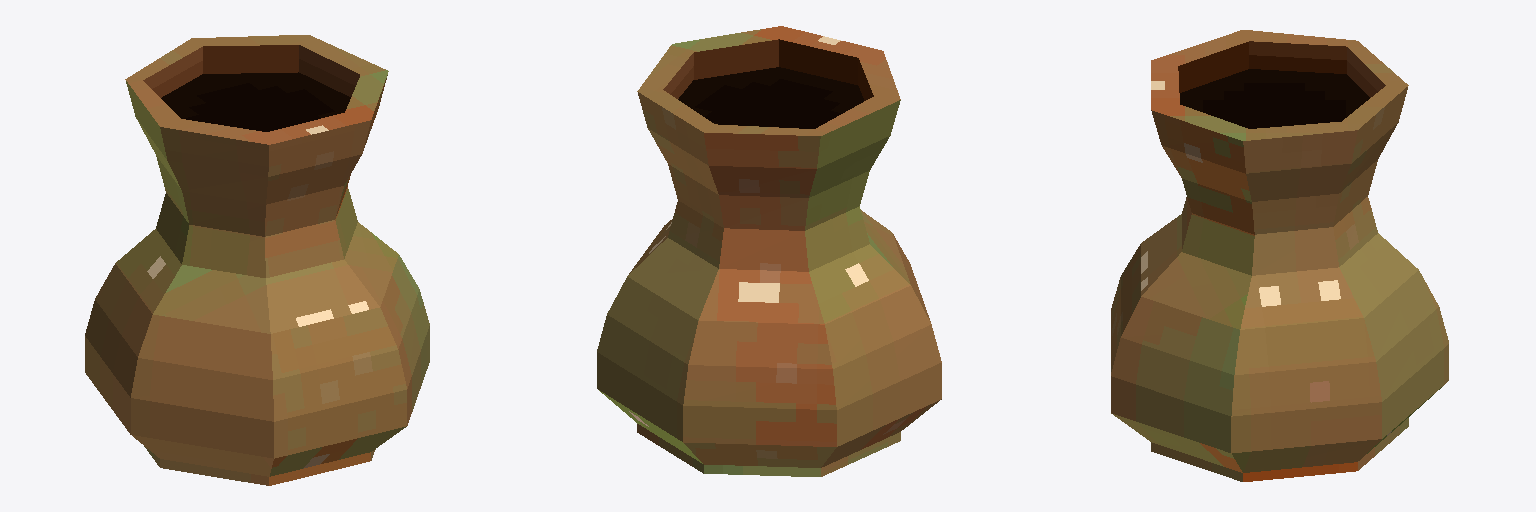
The picture shows the model from 3 angles: view 1: azimuth 30°, elevation 25°; view 2: azimuth 150°, elevation 25°; view 3: azimuth 270°, elevation 25°; orthographic projection.
Visible parts, largest first — view 1: Vase1; view 2: Vase1; view 3: Vase1.
Boxes of the visible parts, x1,y1,x2,y2 form: Vase1: [85, 35, 429, 485]; Vase1: [597, 26, 941, 476]; Vase1: [1111, 30, 1448, 481].
Size of the model in its own units: 0.5308 by 0.5781 by 0.5206.
Materials: 1 (1 with a texture image).